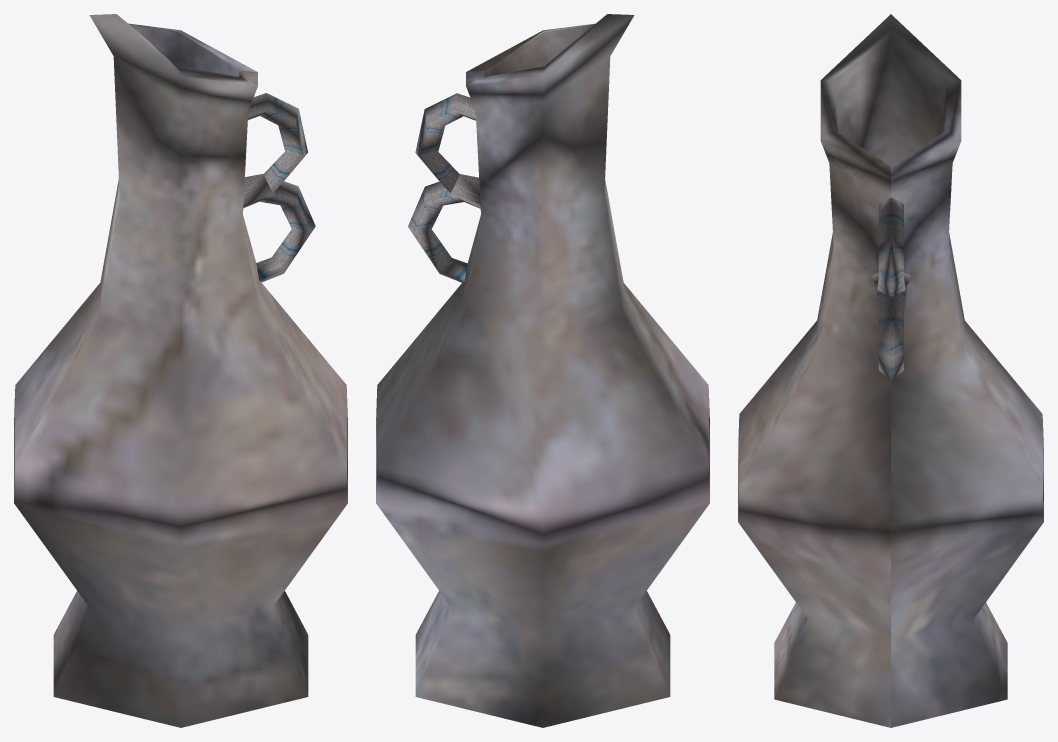
The model's file is poe-pot-3.glb.
The picture shows the model from 3 angles, left to right: view 1: azimuth 30°, elevation 25°; view 2: azimuth 150°, elevation 25°; view 3: azimuth 270°, elevation 25°; orthographic projection. The views are drawn at different scales.
Parts seen in each view (by area): view 1: poe-pot-3_mesh; view 2: poe-pot-3_mesh; view 3: poe-pot-3_mesh.
Boxes of the visible parts, box(x1,y1,x2,y2) form: poe-pot-3_mesh: box(14, 14, 347, 727); poe-pot-3_mesh: box(376, 14, 709, 727); poe-pot-3_mesh: box(738, 14, 1043, 727).
Bounding box in the file's own units: 0.3165 × 0.6096 × 0.2741.
1 material, 1 textured.
